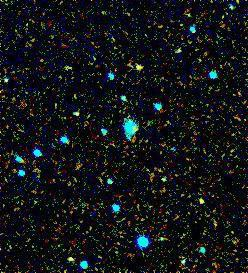star: (186, 185, 216, 215)
